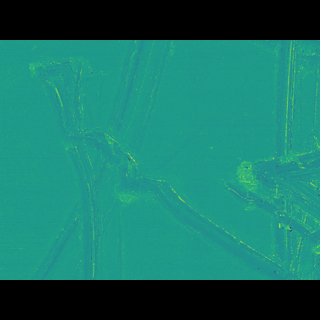Loch: (22, 77, 320, 250)
